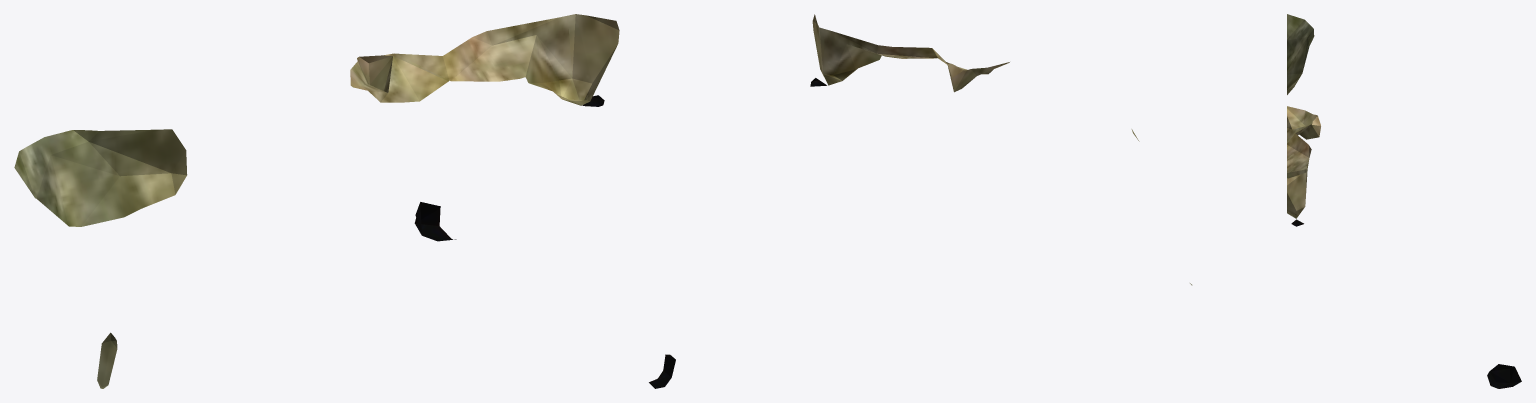
3 renders of one model, left to right at view 1: azimuth 30°, elevation 25°; view 2: azimuth 150°, elevation 25°; view 3: azimuth 270°, elevation 25°, orthographic. The views are drawn at different scales.
Bounding box in the file's own units: 2.79 × 1.55 × 1.62.
Materials: 1 (1 with a texture image).
